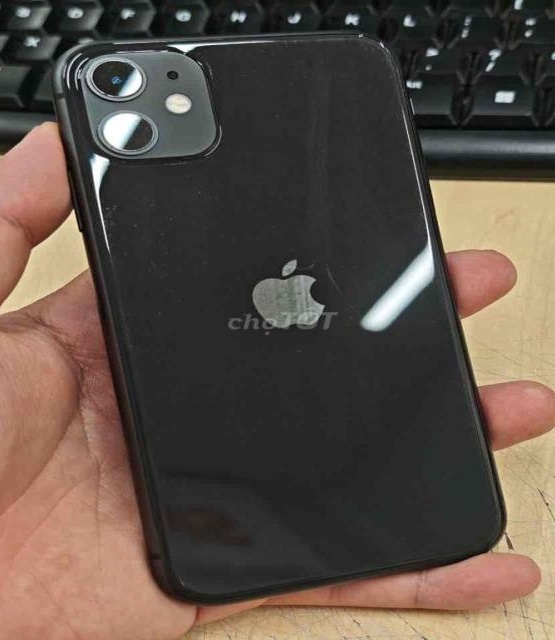scratch: (234, 251, 381, 348), (229, 32, 435, 91), (100, 188, 169, 287), (178, 557, 200, 589)
